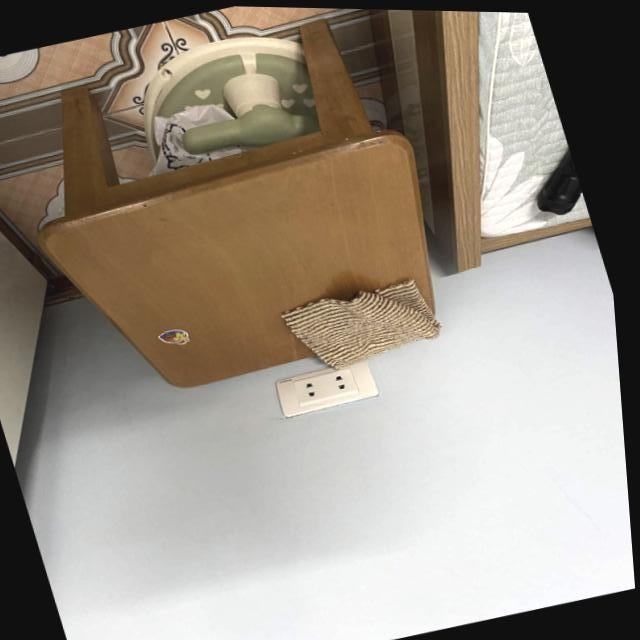outlet: (269, 357, 382, 422)
